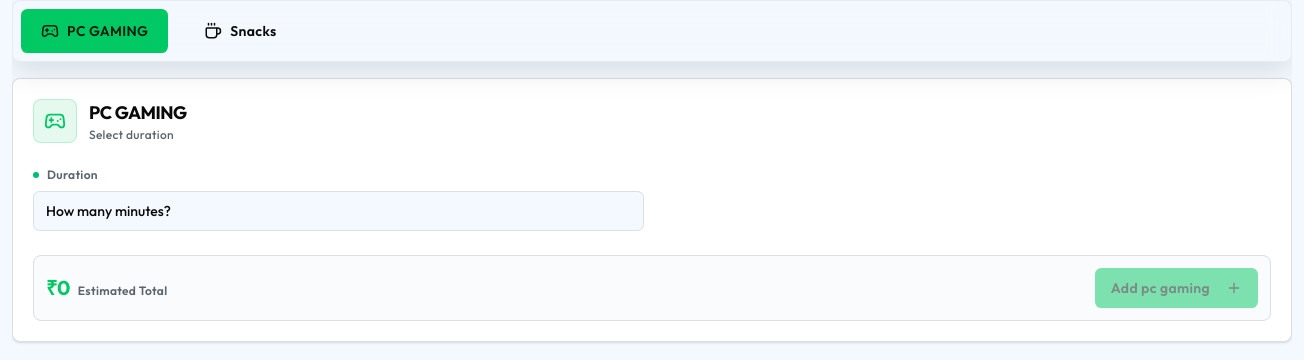
Test case: GameTabs Component › renders products lists in snacks tab
Note: Switch to snacks tab
Click the button "Snacks": [240, 31] box left=180, top=9, right=300, bottom=53
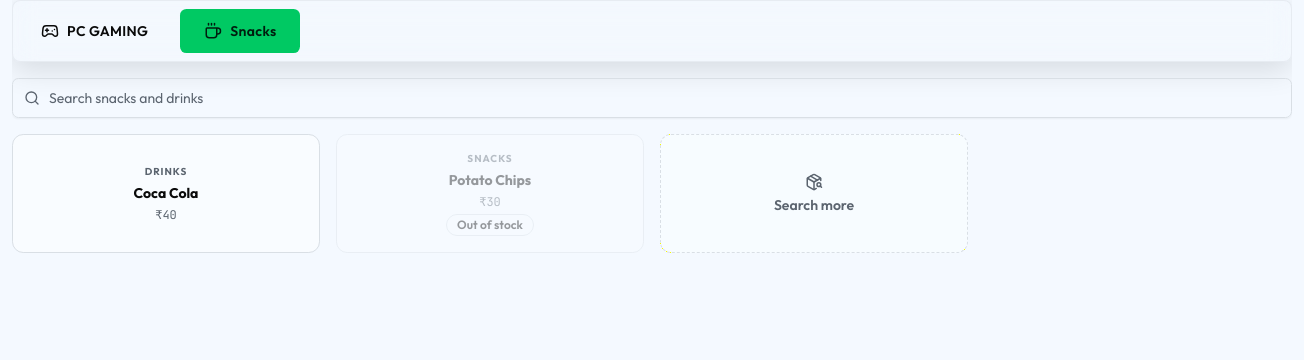
Check: the text "Coca Cola" is shown, box left=134, top=183, right=198, bottom=203
Check: the text "Potato Chips" is shown, box left=449, top=170, right=531, bottom=190
